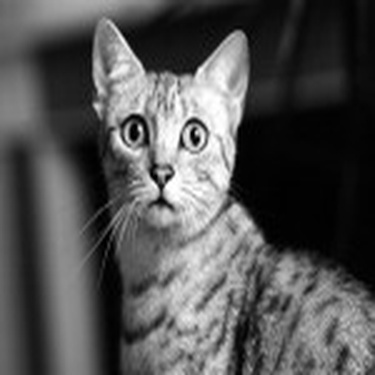cat: (56, 13, 368, 360)
